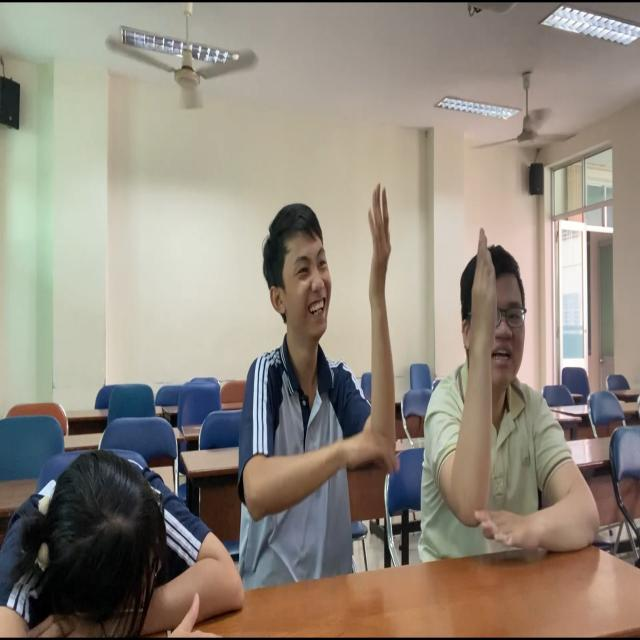raise_hand: (238, 185, 397, 574), (420, 237, 602, 564)
sleep: (1, 417, 240, 640)
